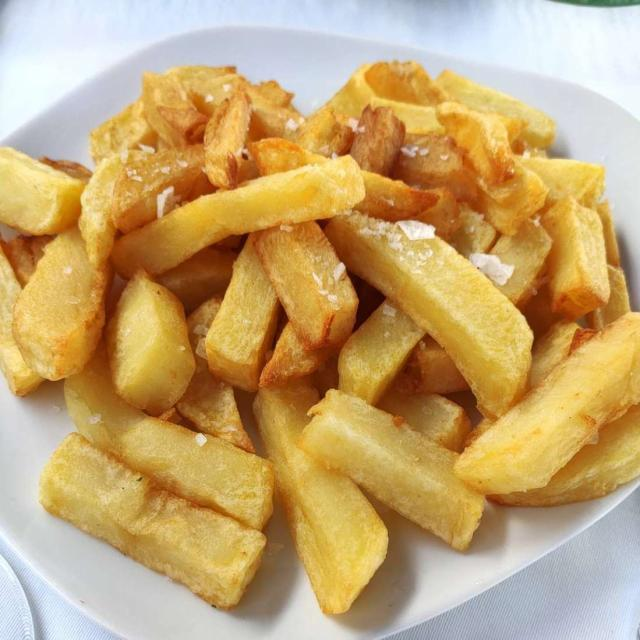chips-french-fries: (20, 67, 623, 611)
